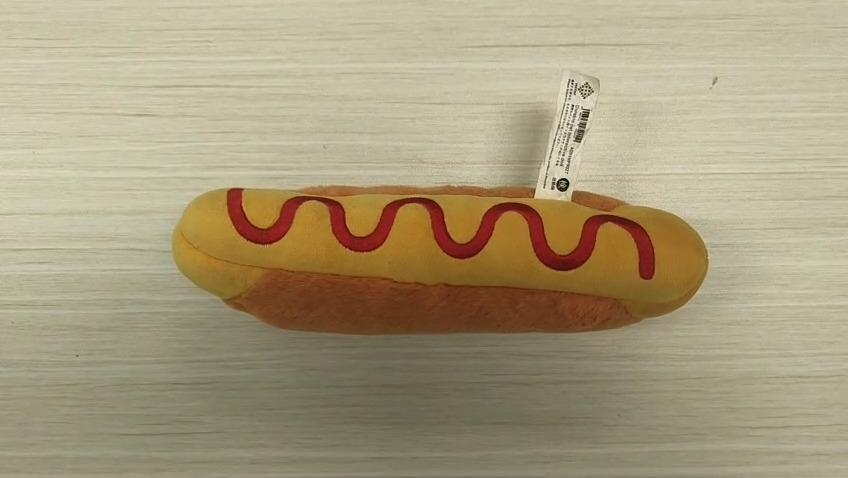hotdog: (171, 182, 709, 335)
